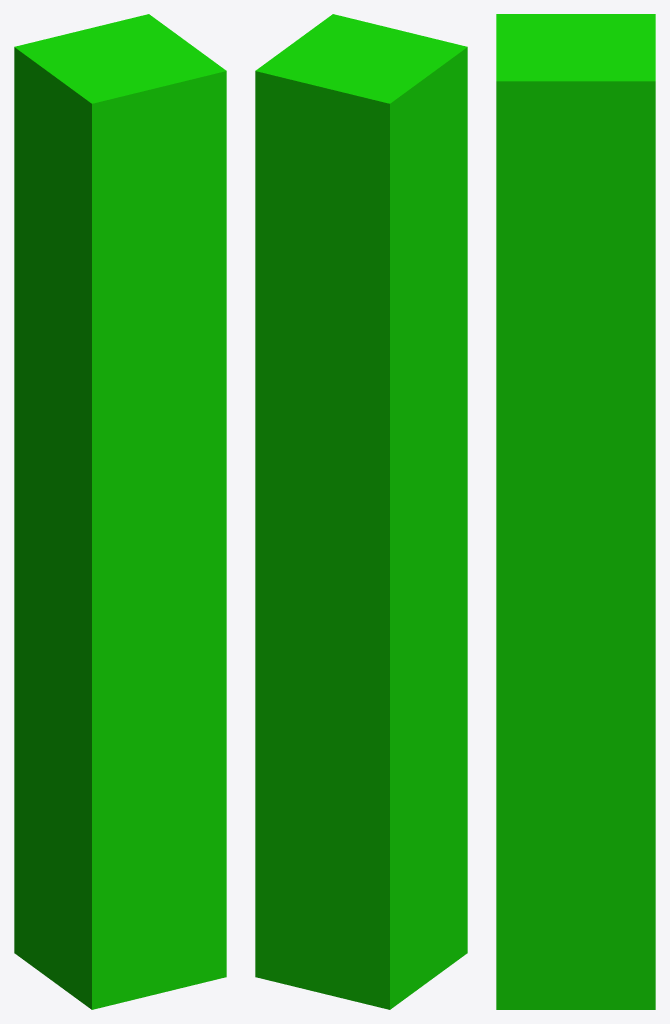
The model's file is player_bullet.fbx.
3 renders of one model, left to right at view 1: azimuth 30°, elevation 25°; view 2: azimuth 150°, elevation 25°; view 3: azimuth 270°, elevation 25°, orthographic. The views are drawn at different scales.
Visible parts, largest first — view 1: Cube; view 2: Cube; view 3: Cube.
Boxes of the visible parts, x1,y1,x2,y2 form: Cube: (14,14,226,1009); Cube: (255,14,467,1009); Cube: (496,14,655,1009).
Size of the model in its own units: 85 by 546 by 85.
